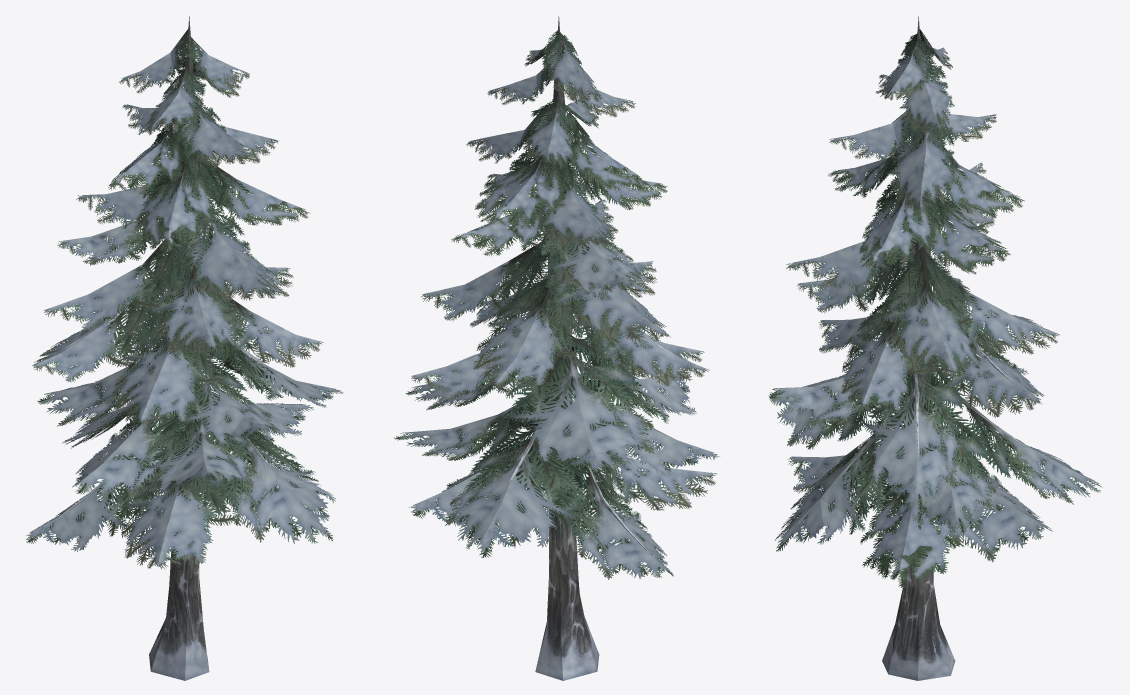
The model's file is shu_03.FBX.
3 views of the same model, side by side, from view 1: azimuth 30°, elevation 25°; view 2: azimuth 150°, elevation 25°; view 3: azimuth 270°, elevation 25° (orthographic).
Parts seen in each view (by area): view 1: shu_03; view 2: shu_03; view 3: shu_03.
Part boxes in pixels (<box>): shu_03: <box>26,16,343,680</box>; shu_03: <box>394,16,719,680</box>; shu_03: <box>768,16,1102,680</box>.
Size of the model in its own units: 265 by 505 by 248.
